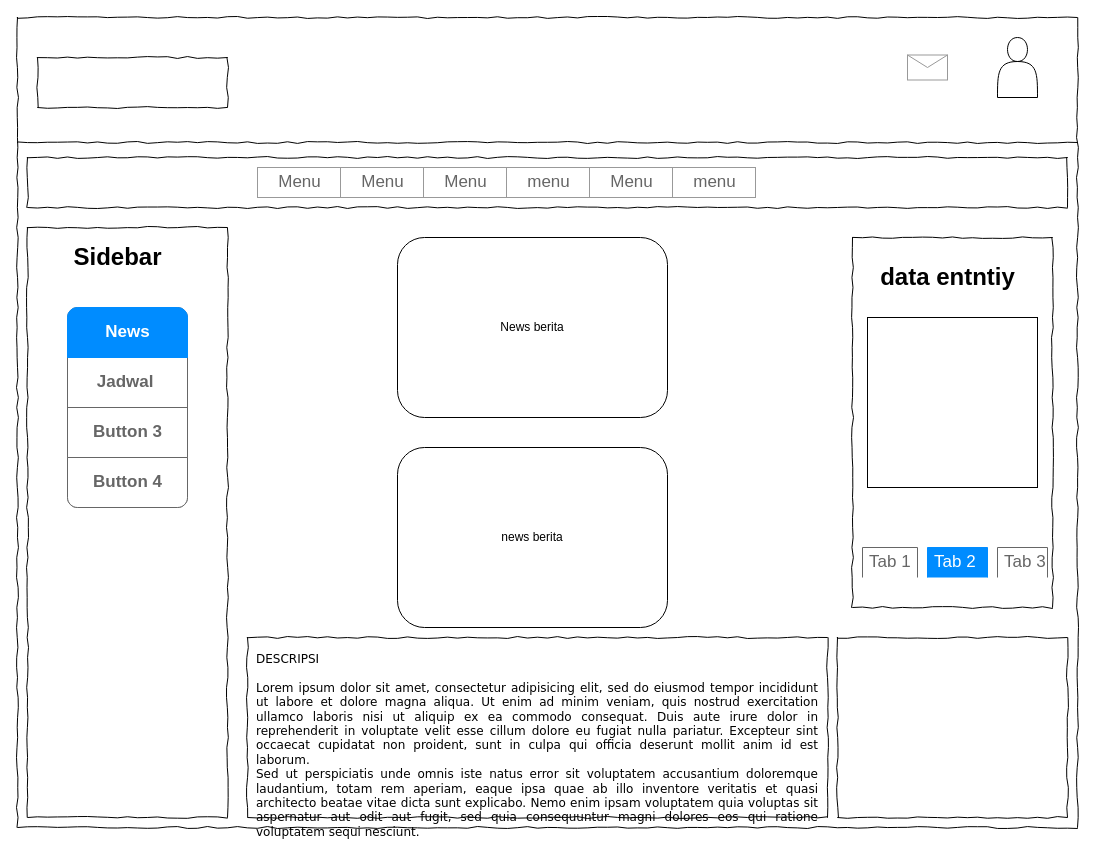
Image size: 1095x857. Some labels were removed from this diagram. Here are the shapes that lost their labels. From the top down, the box of each, then its label:
(36, 56, 228, 108): LOGO
(866, 316, 1038, 488): tabel peringkat
(836, 636, 1068, 818): CHAT
